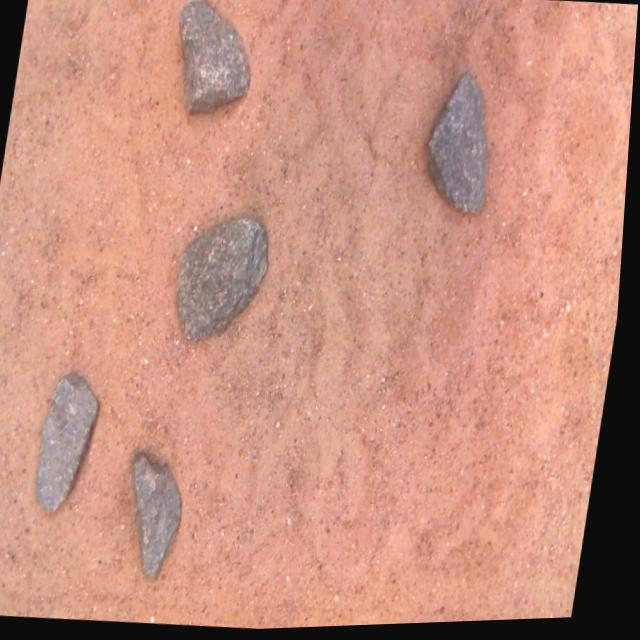rock: (181, 221, 270, 341), (430, 76, 489, 216), (43, 374, 103, 511), (179, 0, 250, 115), (137, 454, 187, 578)
